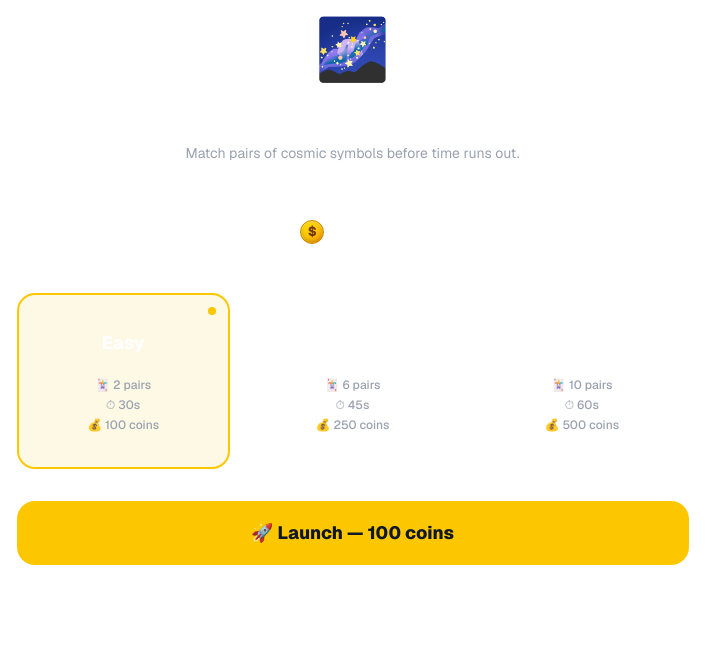
Test case: Orbit Puzzle Game › displays an error message if payment fails
Click the button "🚀 Launch — 100 coins". click: (352, 533)
box: [16,501,688,565]
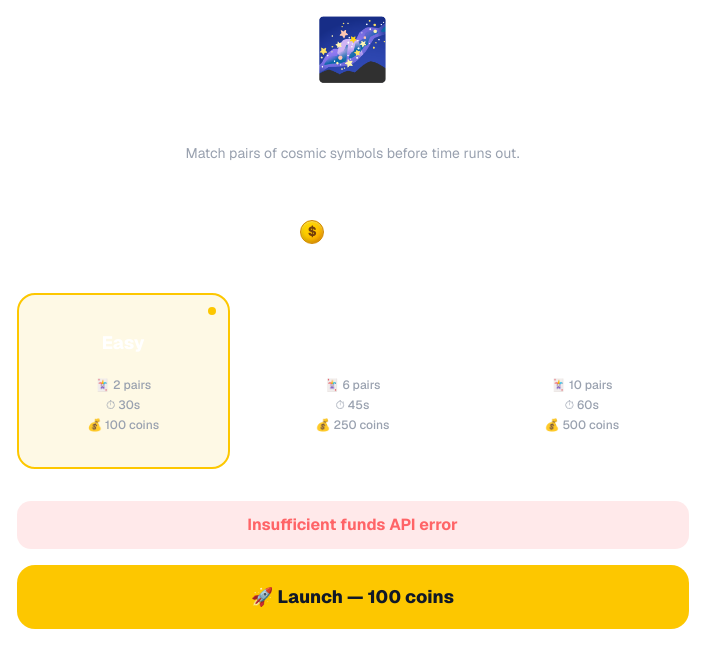
Now the text "Insufficient funds API error" is shown, box [16,501,688,549]
